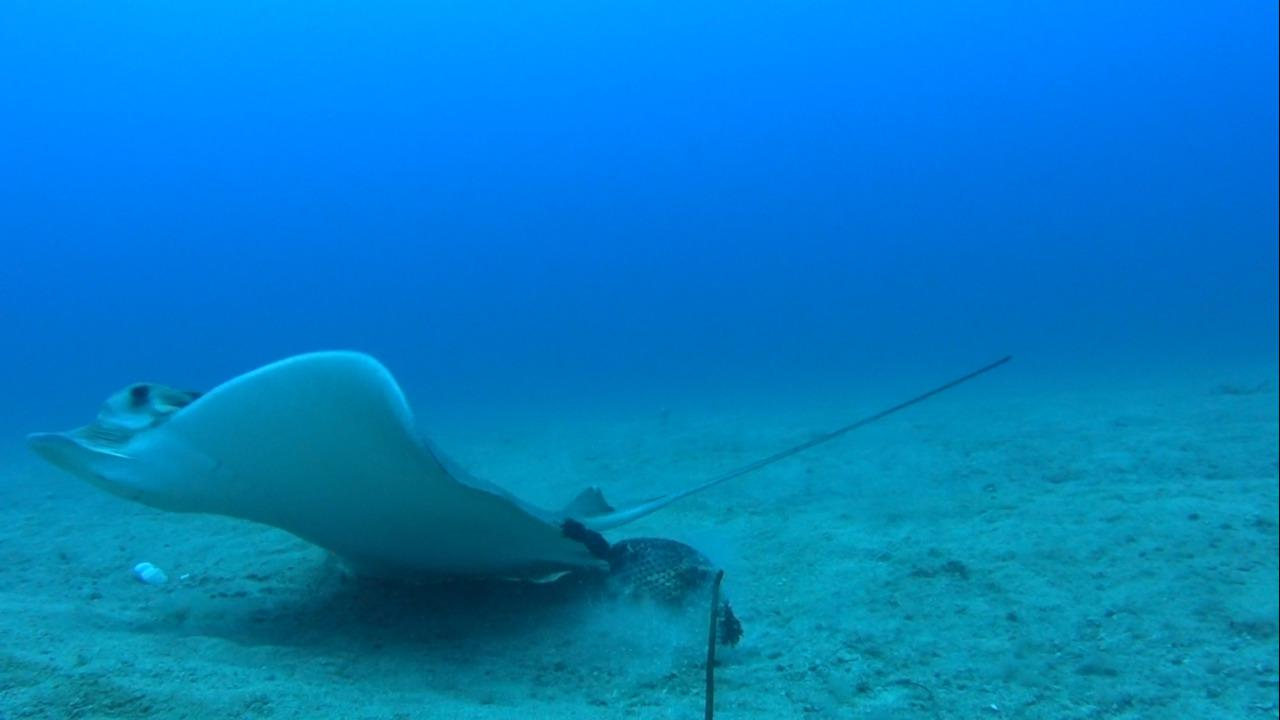myliobatis: (16, 341, 1018, 589)
